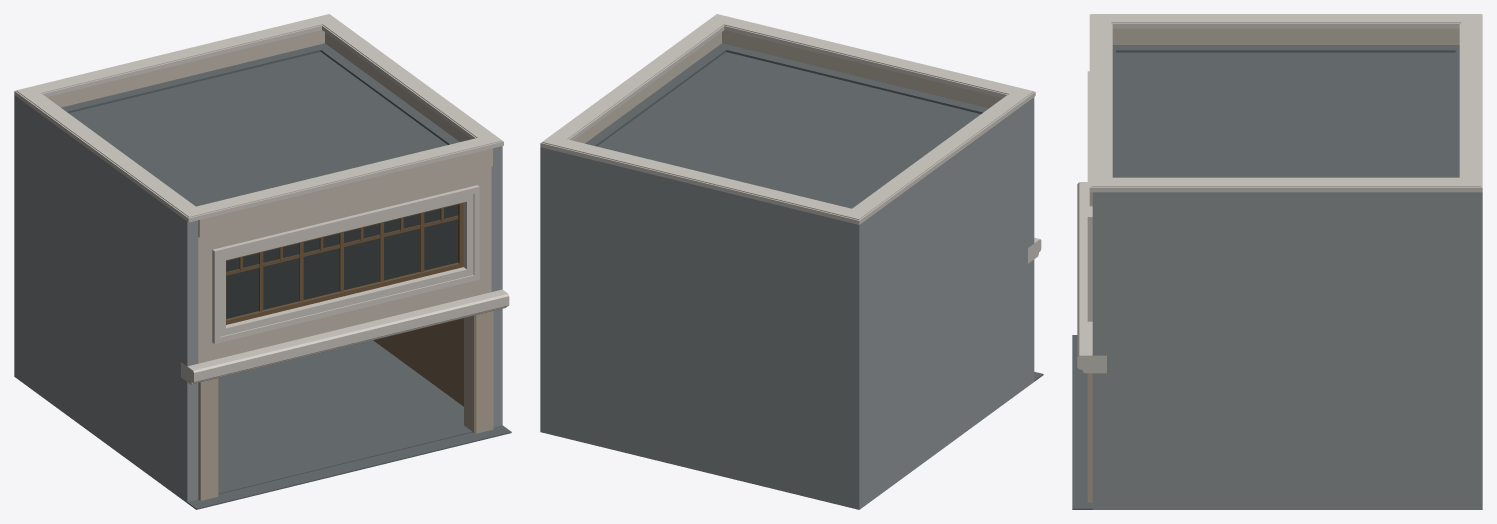
Rendered from cafe-storefront-unit-443728.glb.
The picture shows the model from 3 angles, left to right: view 1: azimuth 30°, elevation 25°; view 2: azimuth 150°, elevation 25°; view 3: azimuth 270°, elevation 25°; orthographic projection. The views are drawn at different scales.
Visible parts, largest first — view 1: cafe-unit-shell; view 2: cafe-unit-shell; view 3: cafe-unit-shell.
Part boxes in pixels (<box>): cafe-unit-shell: <box>14,14,511,509</box>; cafe-unit-shell: <box>540,14,1043,509</box>; cafe-unit-shell: <box>1072,14,1482,509</box>.
Size of the model in its own units: 8 by 6.95 by 8.
